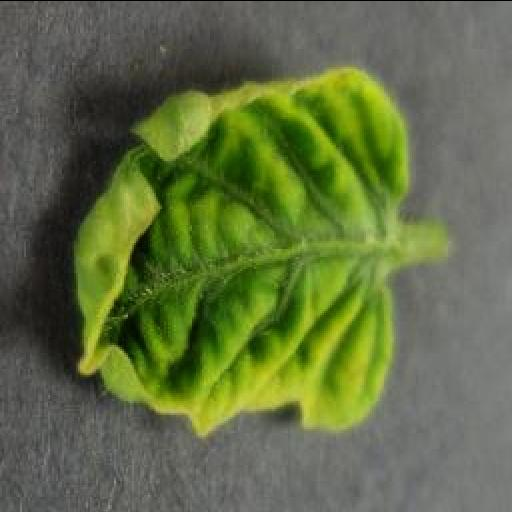disease_tomato: (74, 65, 412, 438)
